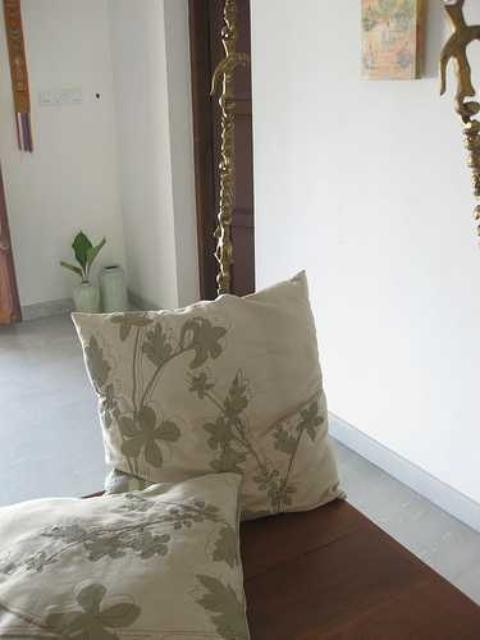pillow: (70, 268, 346, 522), (0, 470, 250, 638)
